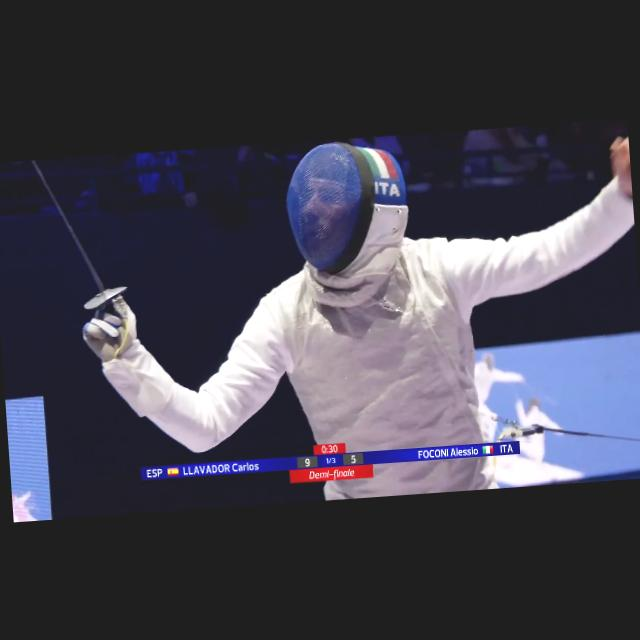blade: (23, 153, 144, 340)
